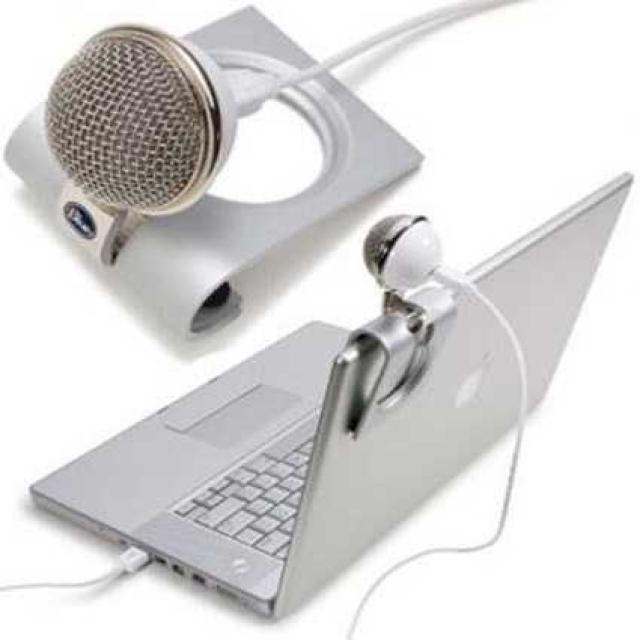microphone: (38, 21, 294, 214), (350, 208, 488, 302)
